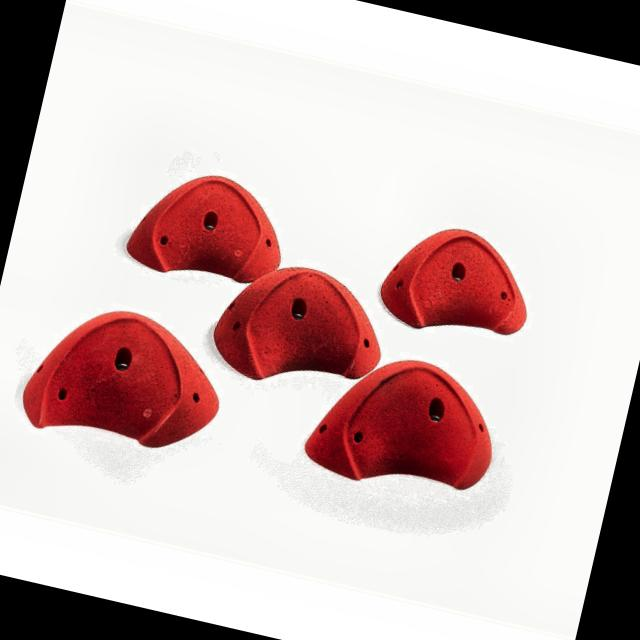Hold: (16, 290, 236, 472), (296, 342, 521, 510), (202, 249, 398, 401), (376, 206, 550, 360), (120, 160, 298, 286)
